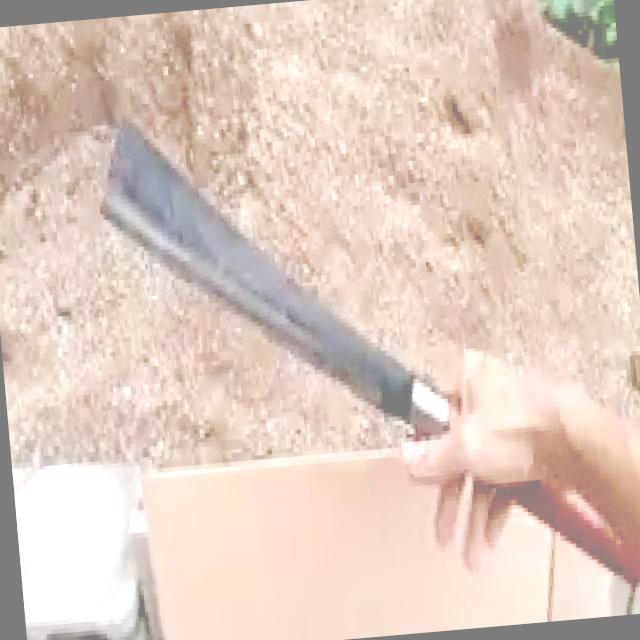eto: (99, 120, 640, 589)
